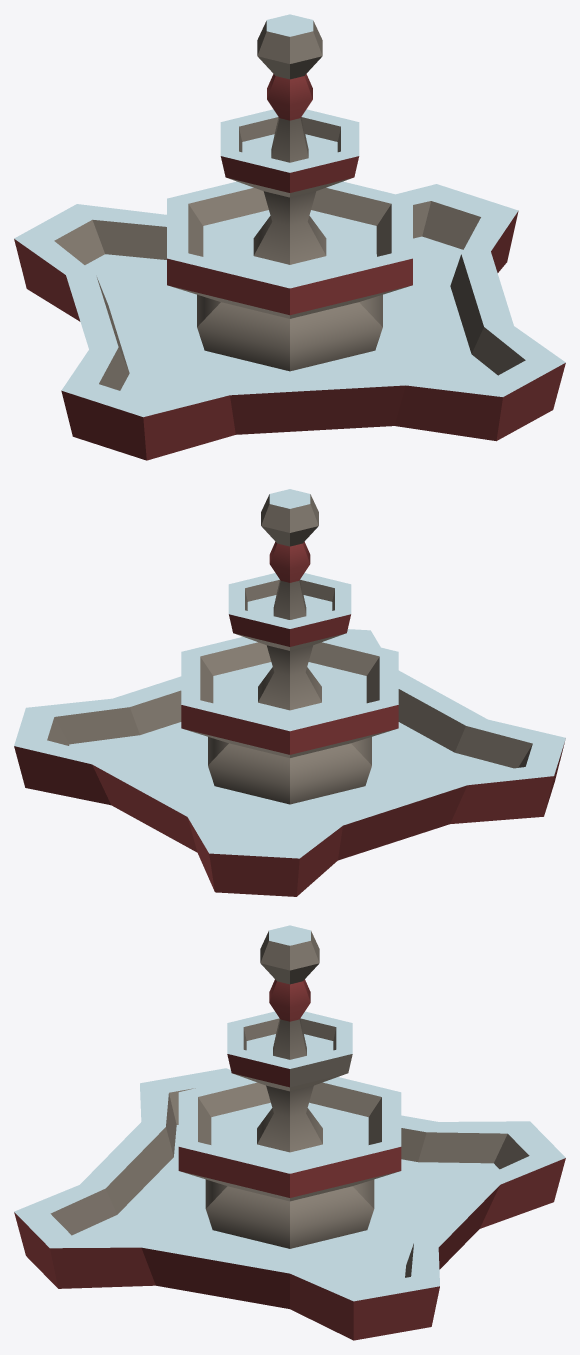
Rendered from SM_Bld_Pirates_Fountain_01_Snow.fbx.
The picture shows the model from 3 angles, top to bottom: view 1: azimuth 30°, elevation 25°; view 2: azimuth 150°, elevation 25°; view 3: azimuth 270°, elevation 25°; orthographic projection. The views are drawn at different scales.
Parts seen in each view (by area): view 1: SM_Bld_Pirates_Fountain_01_Snow; view 2: SM_Bld_Pirates_Fountain_01_Snow; view 3: SM_Bld_Pirates_Fountain_01_Snow.
Part boxes in pixels (box(x1,y1,x2,y2)): SM_Bld_Pirates_Fountain_01_Snow: box(14, 14, 565, 460); SM_Bld_Pirates_Fountain_01_Snow: box(14, 489, 565, 896); SM_Bld_Pirates_Fountain_01_Snow: box(14, 925, 565, 1340).
Size of the model in its own units: 131 by 76.7 by 131.
Materials: 1 (1 with a texture image).
